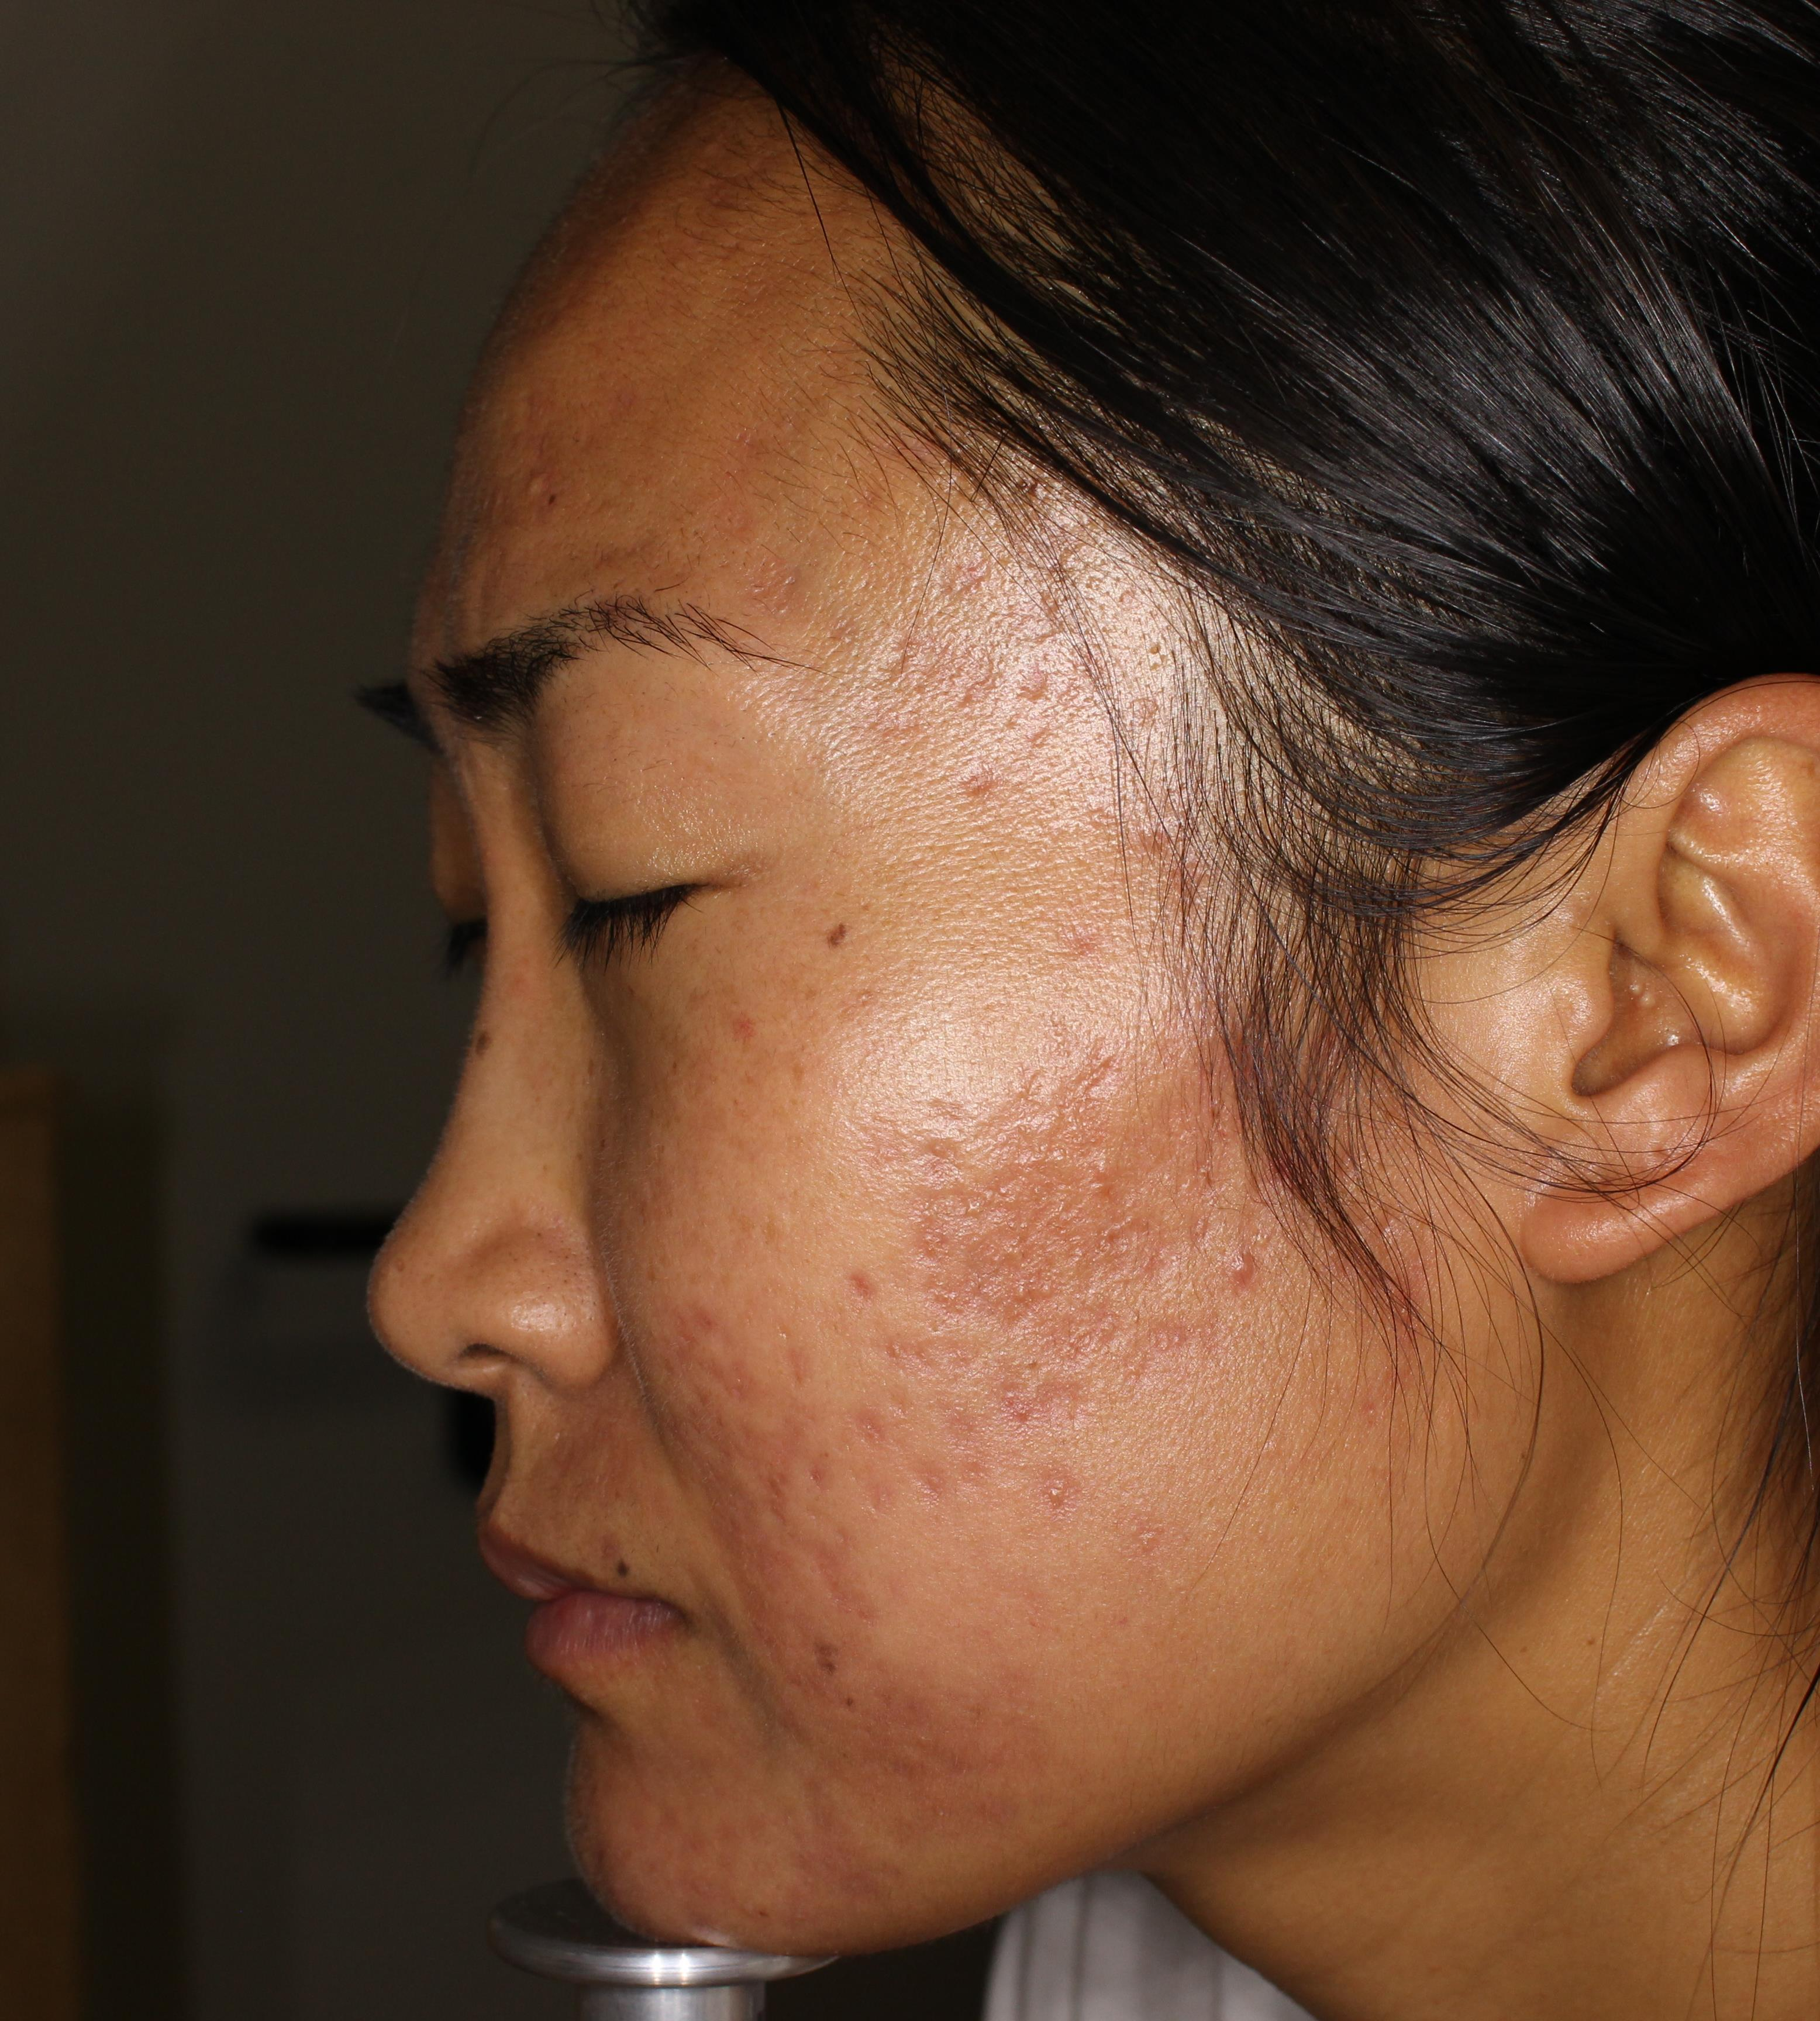fore: (1219, 1240, 1349, 1334), (987, 648, 1100, 737), (875, 1701, 989, 1789), (661, 1303, 754, 1406), (1059, 1222, 1184, 1298), (892, 1370, 982, 1473), (910, 1236, 996, 1326), (1051, 1041, 1144, 1113), (987, 1352, 1077, 1424), (901, 1099, 987, 1171), (987, 1224, 1058, 1312), (813, 1842, 903, 1910), (1149, 850, 1230, 917), (1123, 802, 1198, 862), (1161, 1303, 1228, 1370), (1022, 1459, 1077, 1536), (1059, 1127, 1135, 1182), (829, 1257, 884, 1320), (938, 1173, 1014, 1205), (938, 769, 964, 806), (794, 1477, 817, 1505)
